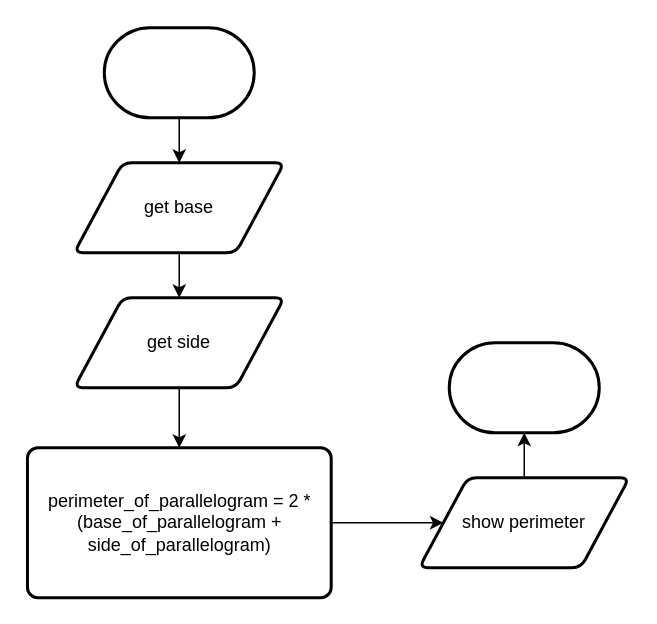
The diagram is 657 pixels wide and 624 high, and some of its shapes have lost their labels. Each missing label, with the centre of its shape:
start: pixel 178 72
stop: pixel 523 387
